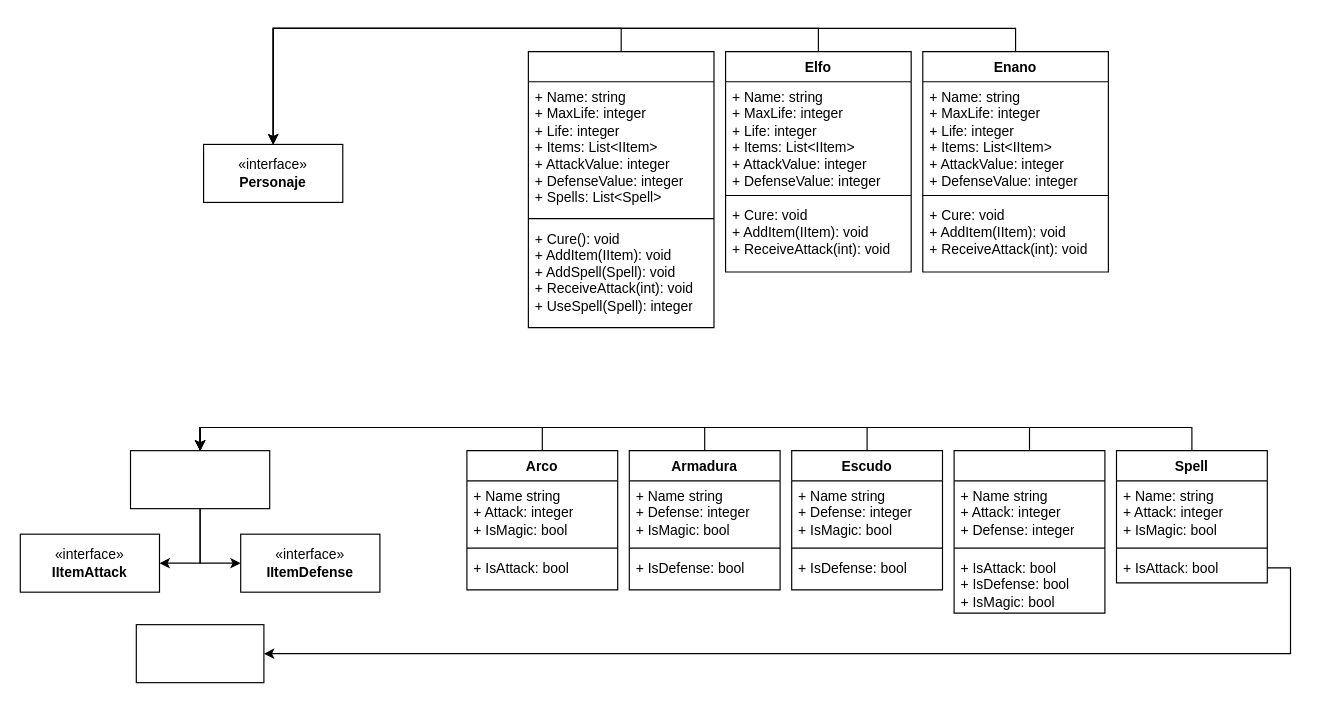
The diagram is 1320 pixels wide and 703 high, and some of its shapes have lost their labels. Each missing label, with the box of its shape:
Espada: (953, 449, 1105, 613)
Mago: (527, 50, 714, 328)
«interface» IIsMagic: (135, 624, 264, 683)
«interface» IItem: (129, 449, 270, 509)
